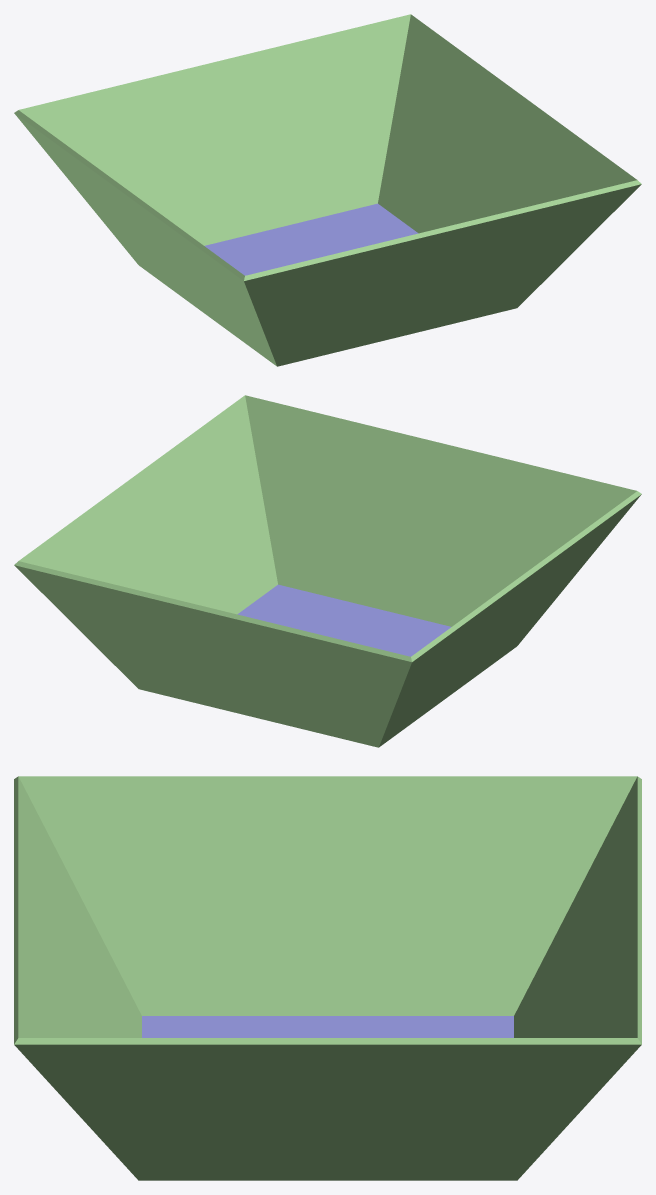
Rendered from vase.FBX.
3 renders of one model, top to bottom at view 1: azimuth 30°, elevation 25°; view 2: azimuth 150°, elevation 25°; view 3: azimuth 270°, elevation 25°, orthographic. The views are drawn at different scales.
Visible parts, largest first — view 1: Box001; view 2: Box001; view 3: Box001.
Boxes of the visible parts, <box> form: Box001: <box>14,14,641,366</box>; Box001: <box>14,395,641,747</box>; Box001: <box>14,776,641,1180</box>.
Size of the model in its own units: 75.93 by 25.83 by 75.93.
